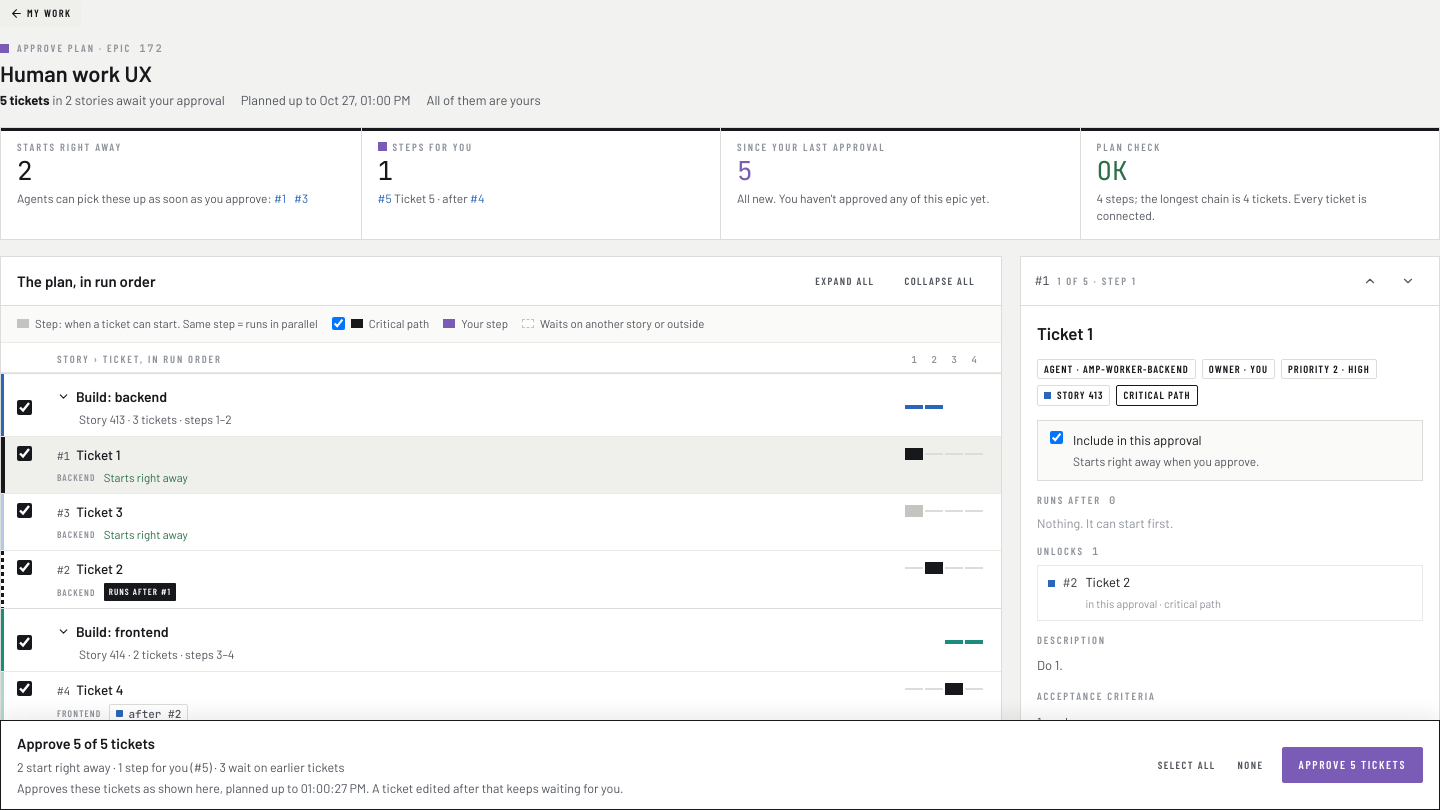
ApproveView › says which tickets changed while the person was reading
Click the button "Approve 5 tickets" at [1352, 765], box [1282,747,1423,783]
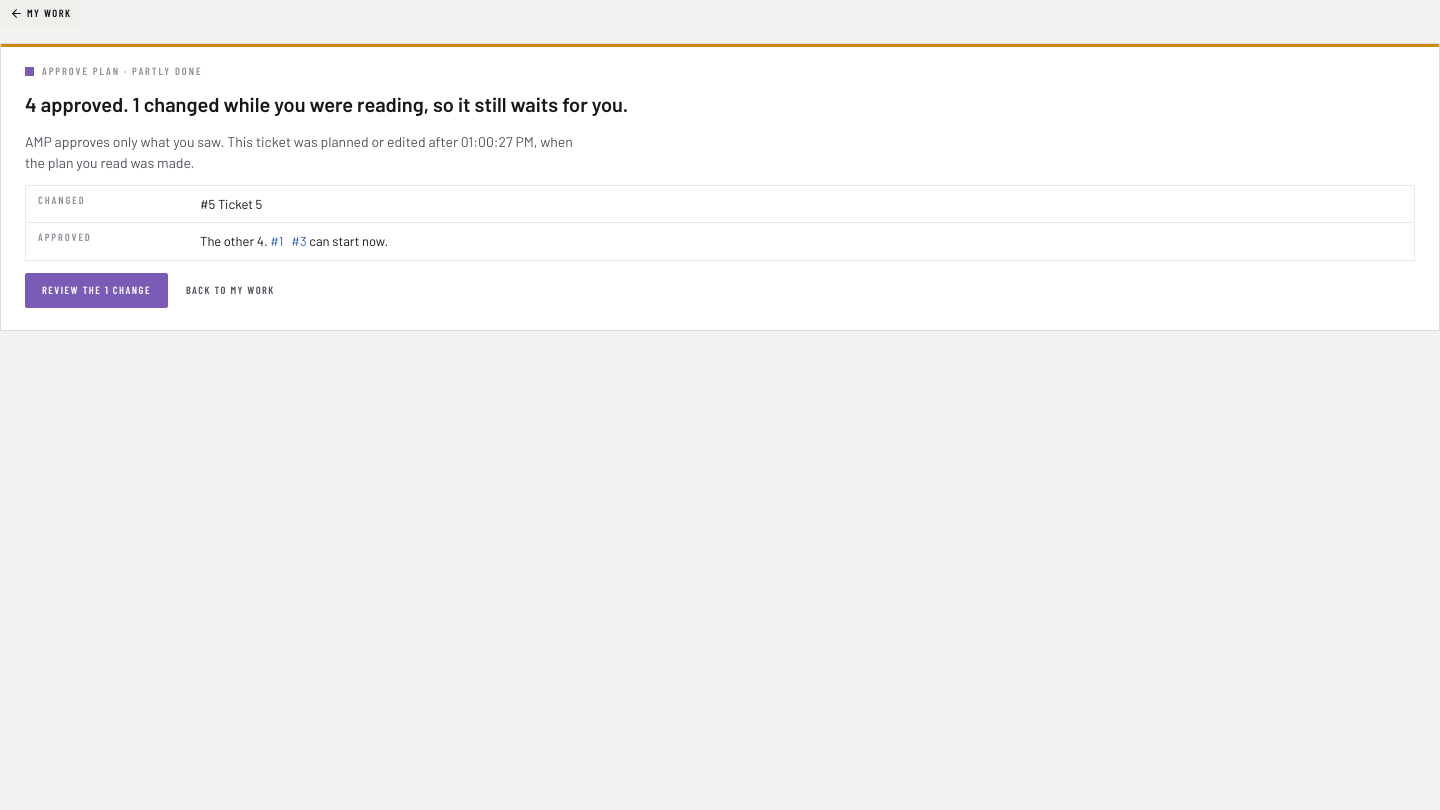
Check: the heading "4 approved. 1 changed while you were reading, so it still waits for you." is shown, box [25,92,628,116]
Check: the button "Review the 1 change" is shown, box [25,273,168,308]
